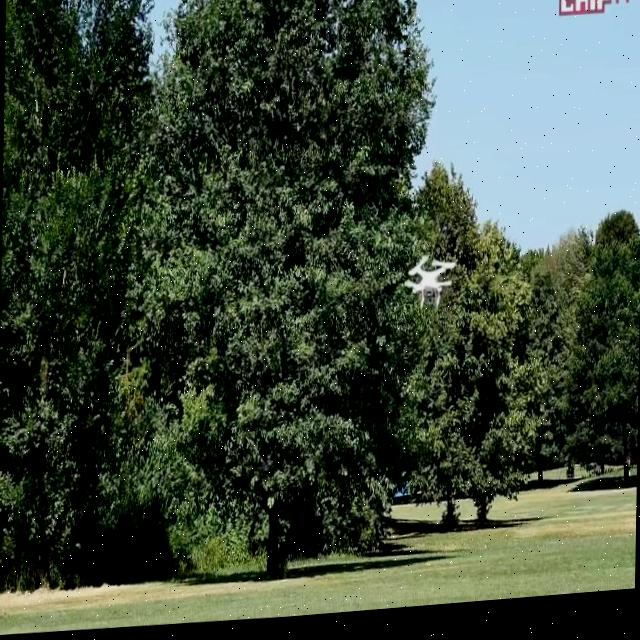drone: (401, 256, 456, 316)
